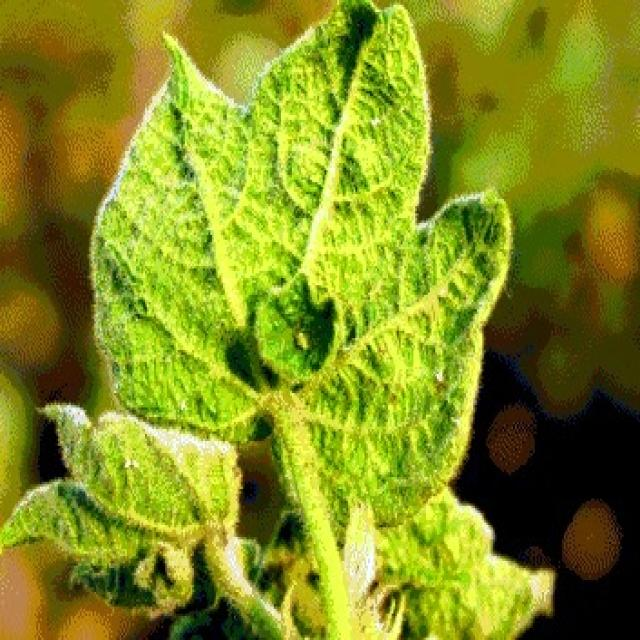Leaf Curl Virus: (147, 116, 432, 640)
